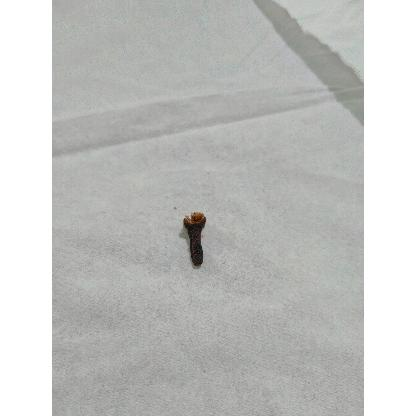buruk: (183, 212, 207, 269)
